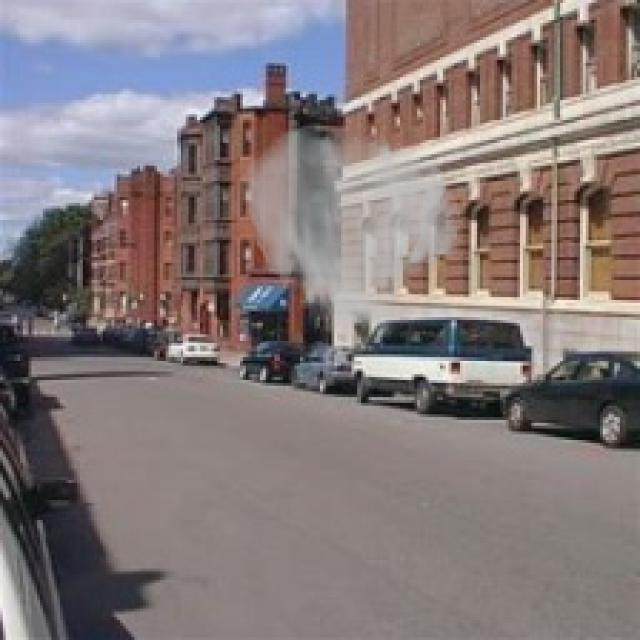Smoke: (240, 123, 463, 340)
